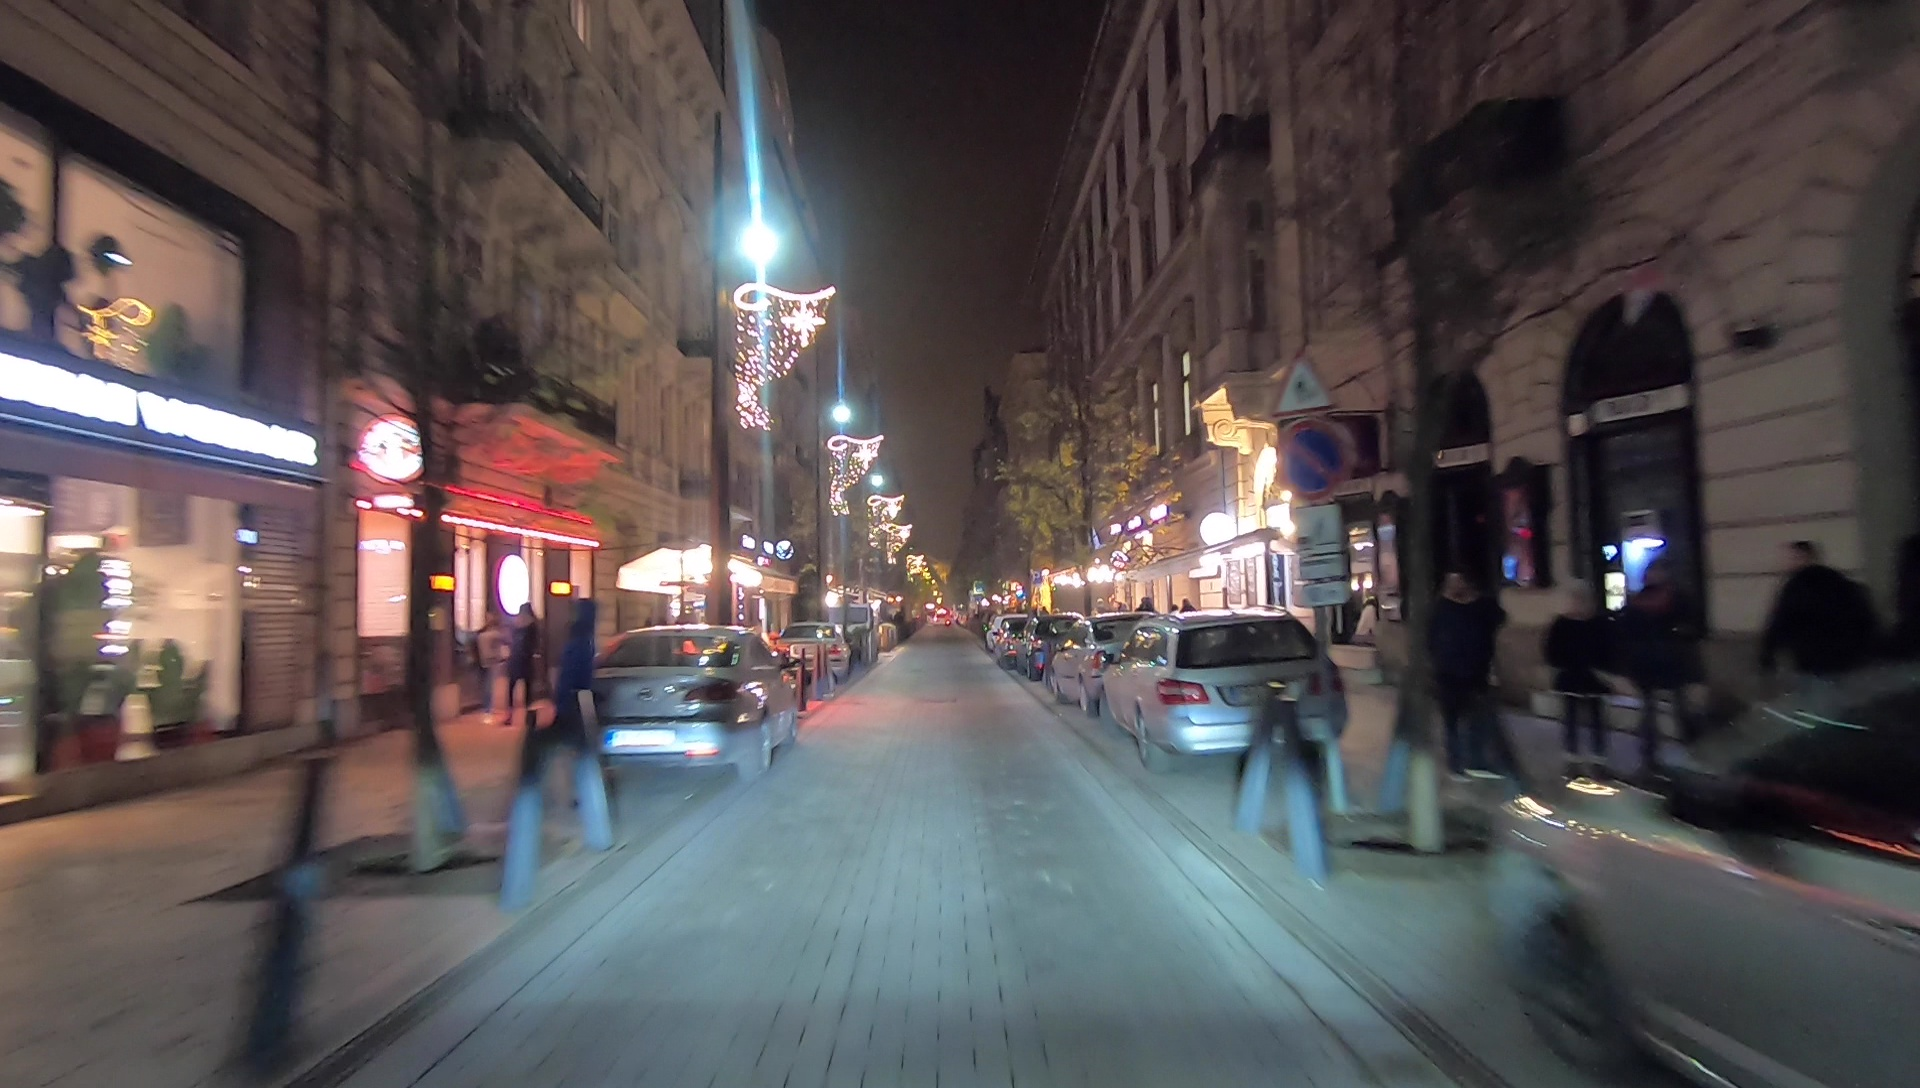person: (1751, 539, 1882, 747), (1619, 563, 1708, 769), (1432, 571, 1506, 782), (545, 591, 602, 823), (502, 600, 539, 730)
